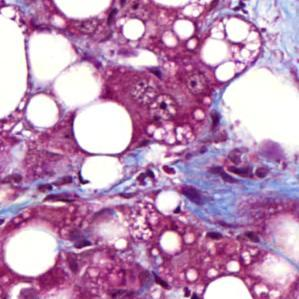steatosis: (70, 103, 134, 158), (7, 227, 60, 278)
